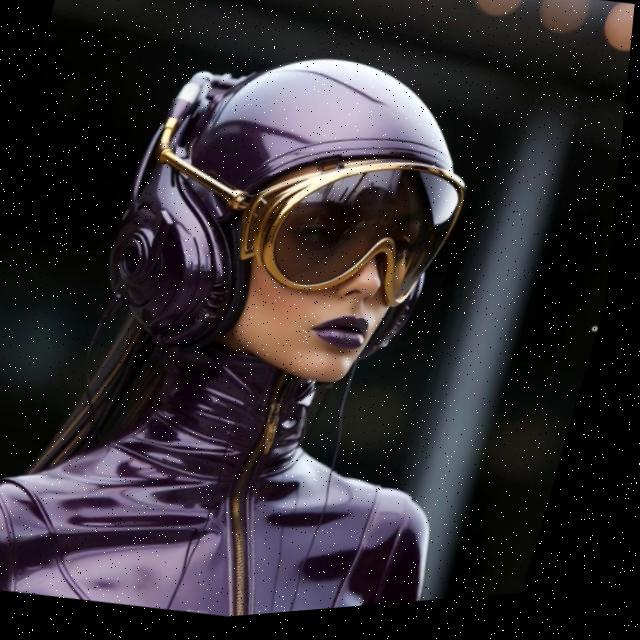illegal_helmet: (73, 11, 518, 436)
